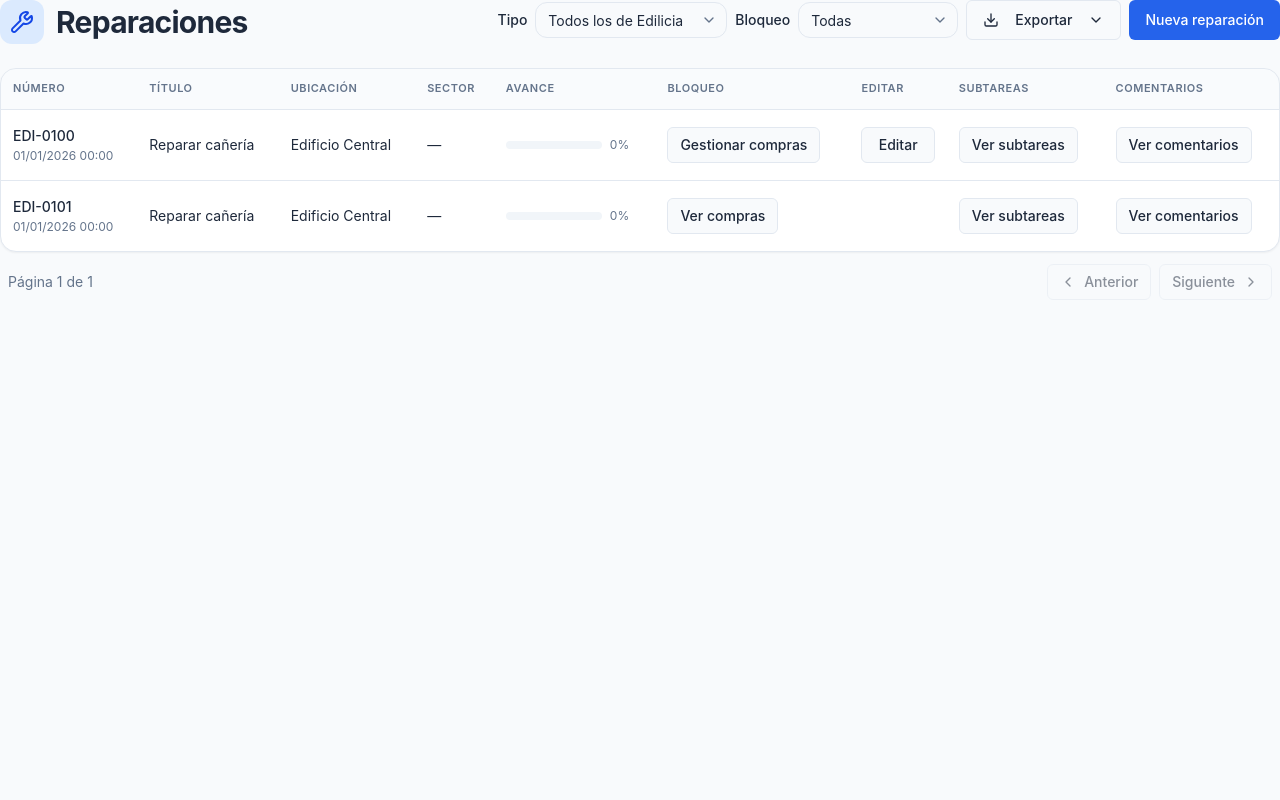
Test: ReparacionesList — acciones según el tipo de cada fila (odd/permisos-por-tipo-ticket, S6) › el formulario de comentario aparece en la fila del tipo con COMENTAR y OBSERVAR, y no con COMENTAR solo
Expected: the text "EDI-0100" is shown, [13,126,75,144]
Click the button "Ver comentarios" in the row of "EDI-0100": [1184, 144] box [1116,126,1252,162]
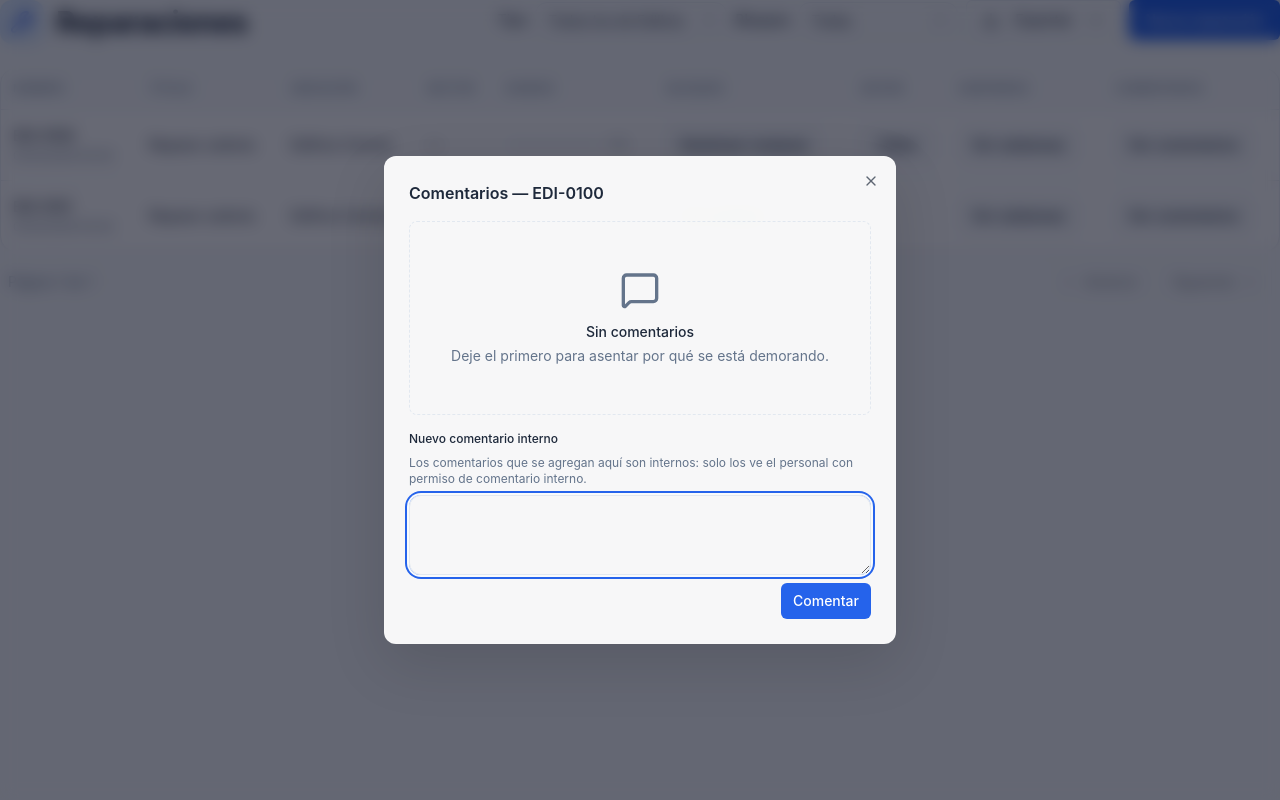
Expected: the text box labelled "Nuevo comentario interno" is shown, [409,495,871,575]
Press Escape
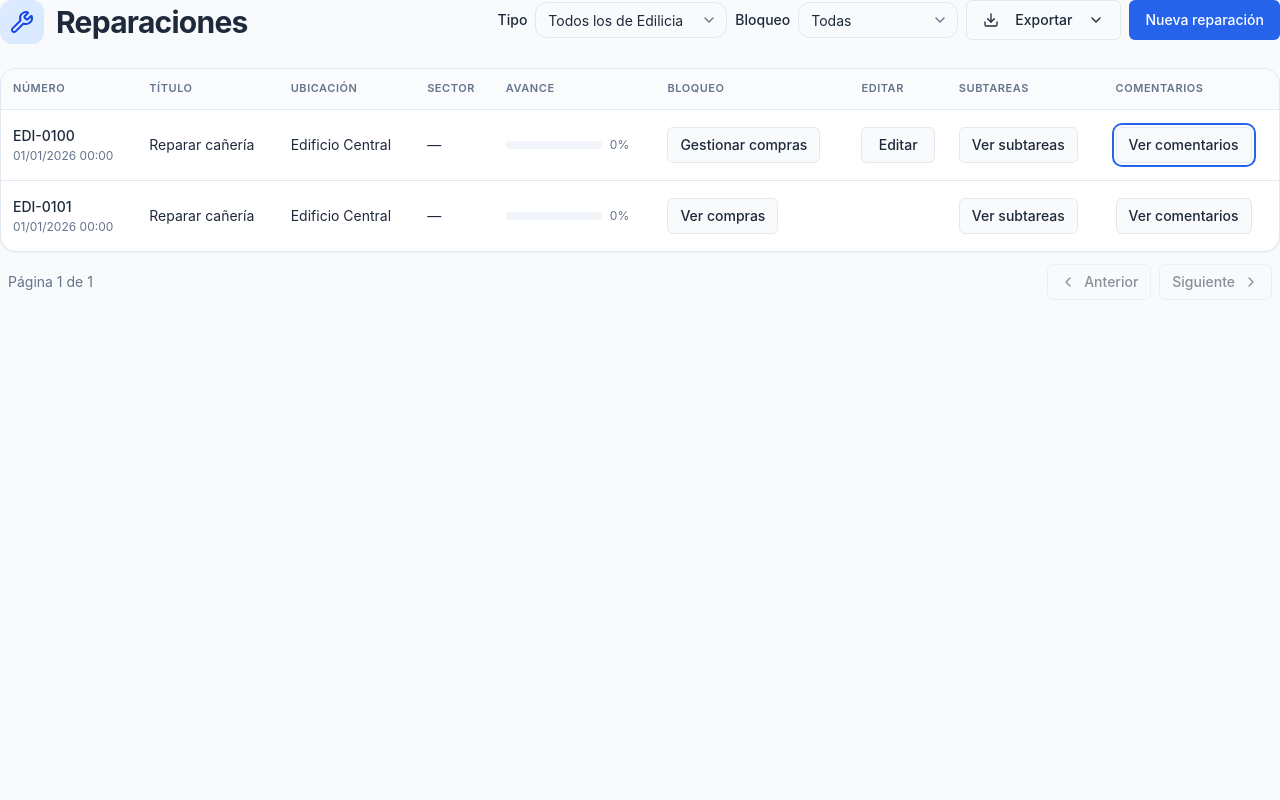
Expected: the dialog is gone
Click the button "Ver comentarios" in the row of "EDI-0101": [1184, 216] box [1116,198,1252,234]
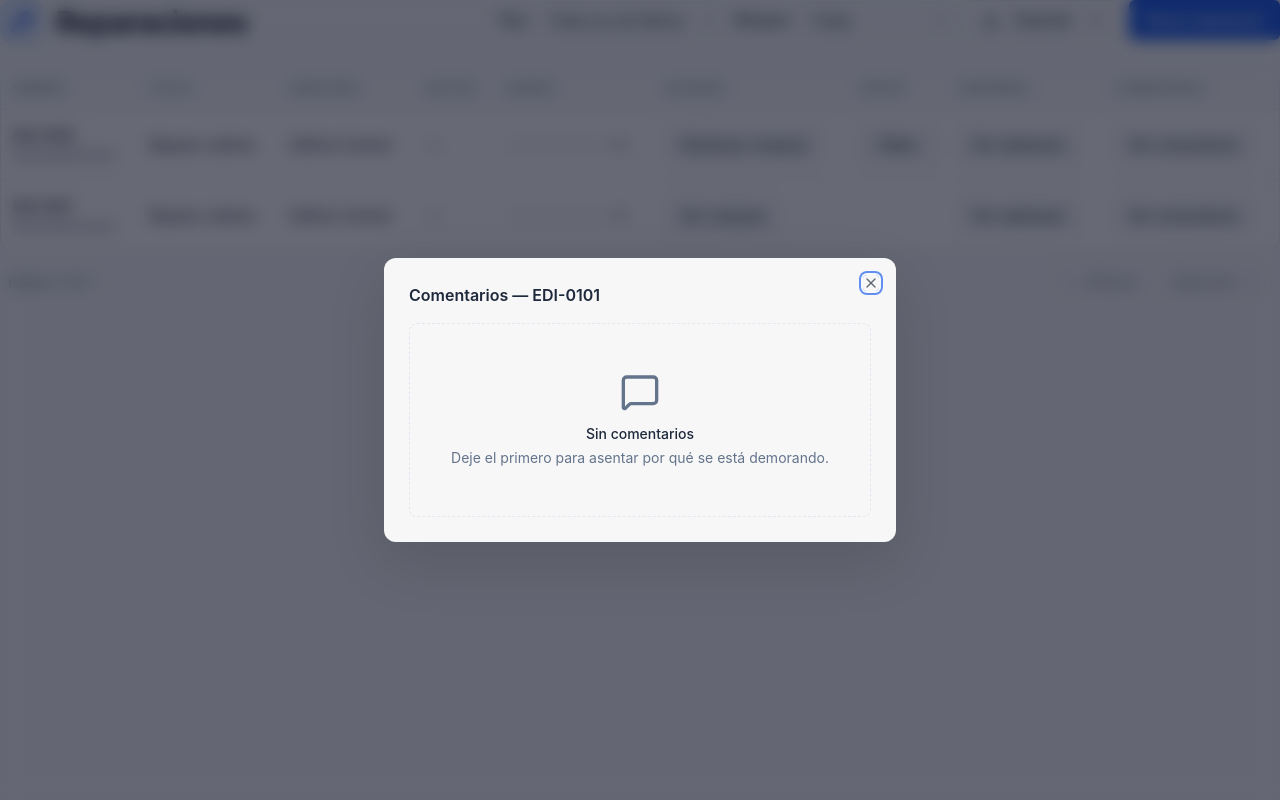
Expected: the label labelled "Nuevo comentario" is not shown
Expected: the text "Sin comentarios" is shown, [586,425,694,442]
